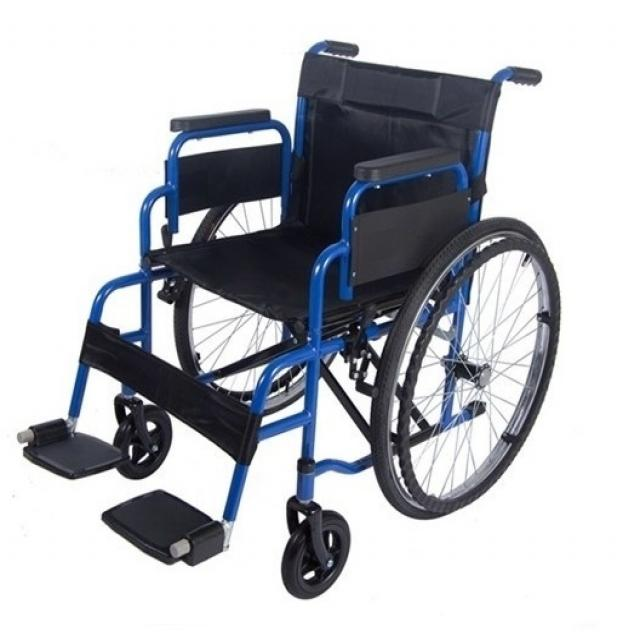wheelchair: (9, 33, 578, 601)
